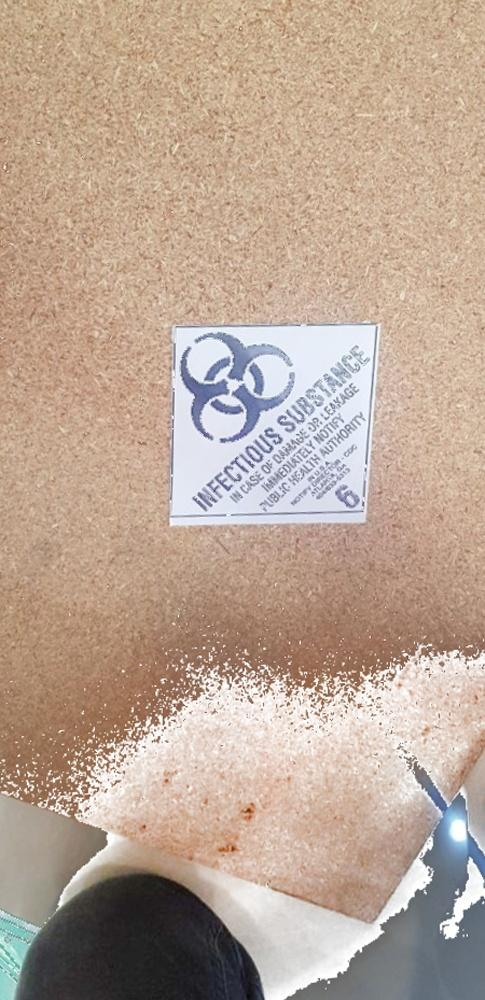infectious-substance: (166, 313, 388, 539)
